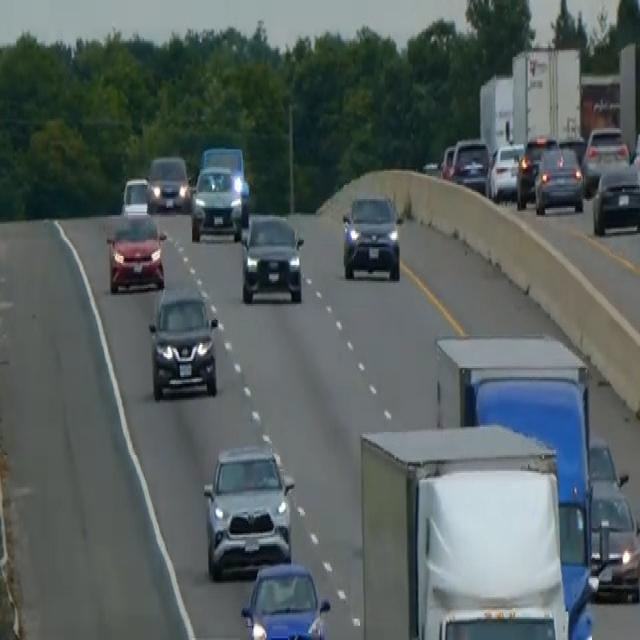car: (202, 441, 295, 579), (147, 284, 219, 400), (240, 560, 330, 638), (587, 475, 639, 601), (239, 210, 304, 304), (341, 192, 402, 281), (106, 208, 167, 293), (189, 162, 246, 242), (591, 158, 639, 235), (533, 144, 584, 215), (581, 122, 629, 194), (515, 133, 558, 208), (147, 153, 190, 211), (449, 135, 490, 194), (487, 140, 524, 201), (120, 174, 153, 215), (558, 134, 587, 166), (439, 142, 455, 180), (630, 128, 639, 190)
lorry: (433, 330, 596, 636), (357, 420, 576, 638), (510, 44, 583, 148)
